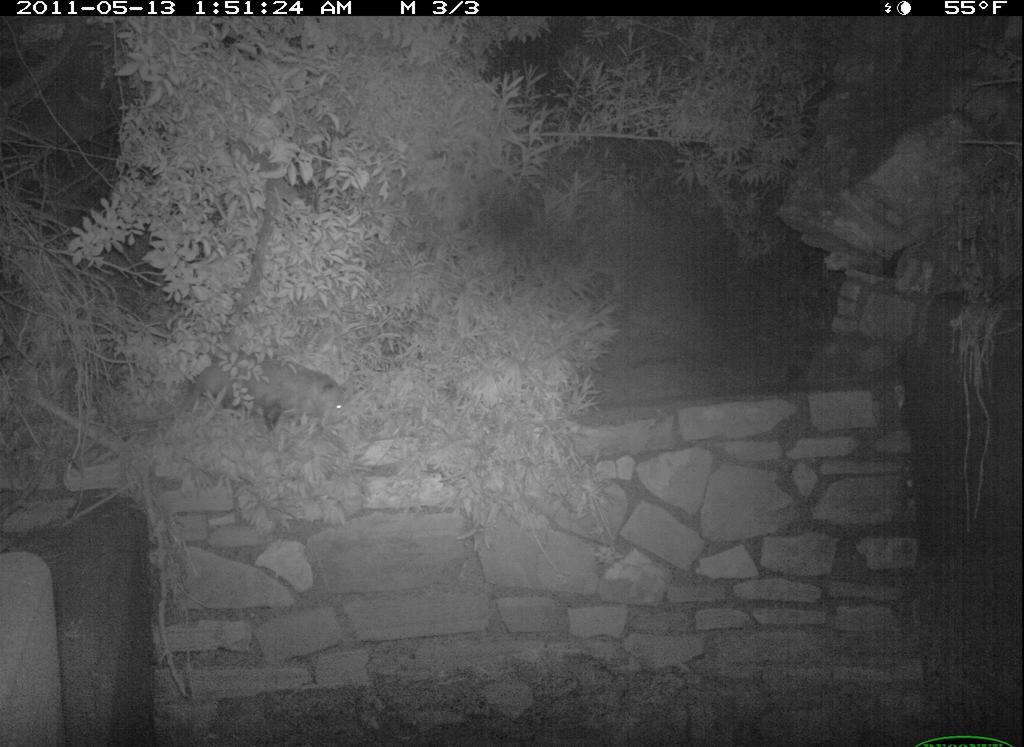opossum: (176, 349, 354, 446)
